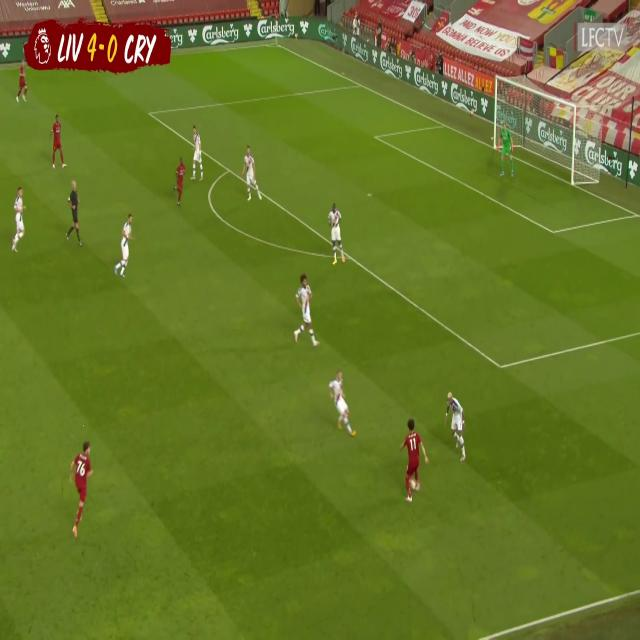Ball: (409, 473, 416, 494)
GoalKeeper: (495, 120, 515, 180)
TEAM 1: (64, 420, 94, 543), (401, 420, 428, 504), (50, 114, 66, 173), (175, 159, 187, 207), (16, 64, 29, 104)
TEAM 2: (329, 371, 358, 437), (293, 272, 317, 348), (114, 208, 137, 282), (445, 392, 468, 462), (240, 145, 260, 202), (328, 204, 344, 268), (11, 188, 26, 254), (192, 128, 205, 180)
